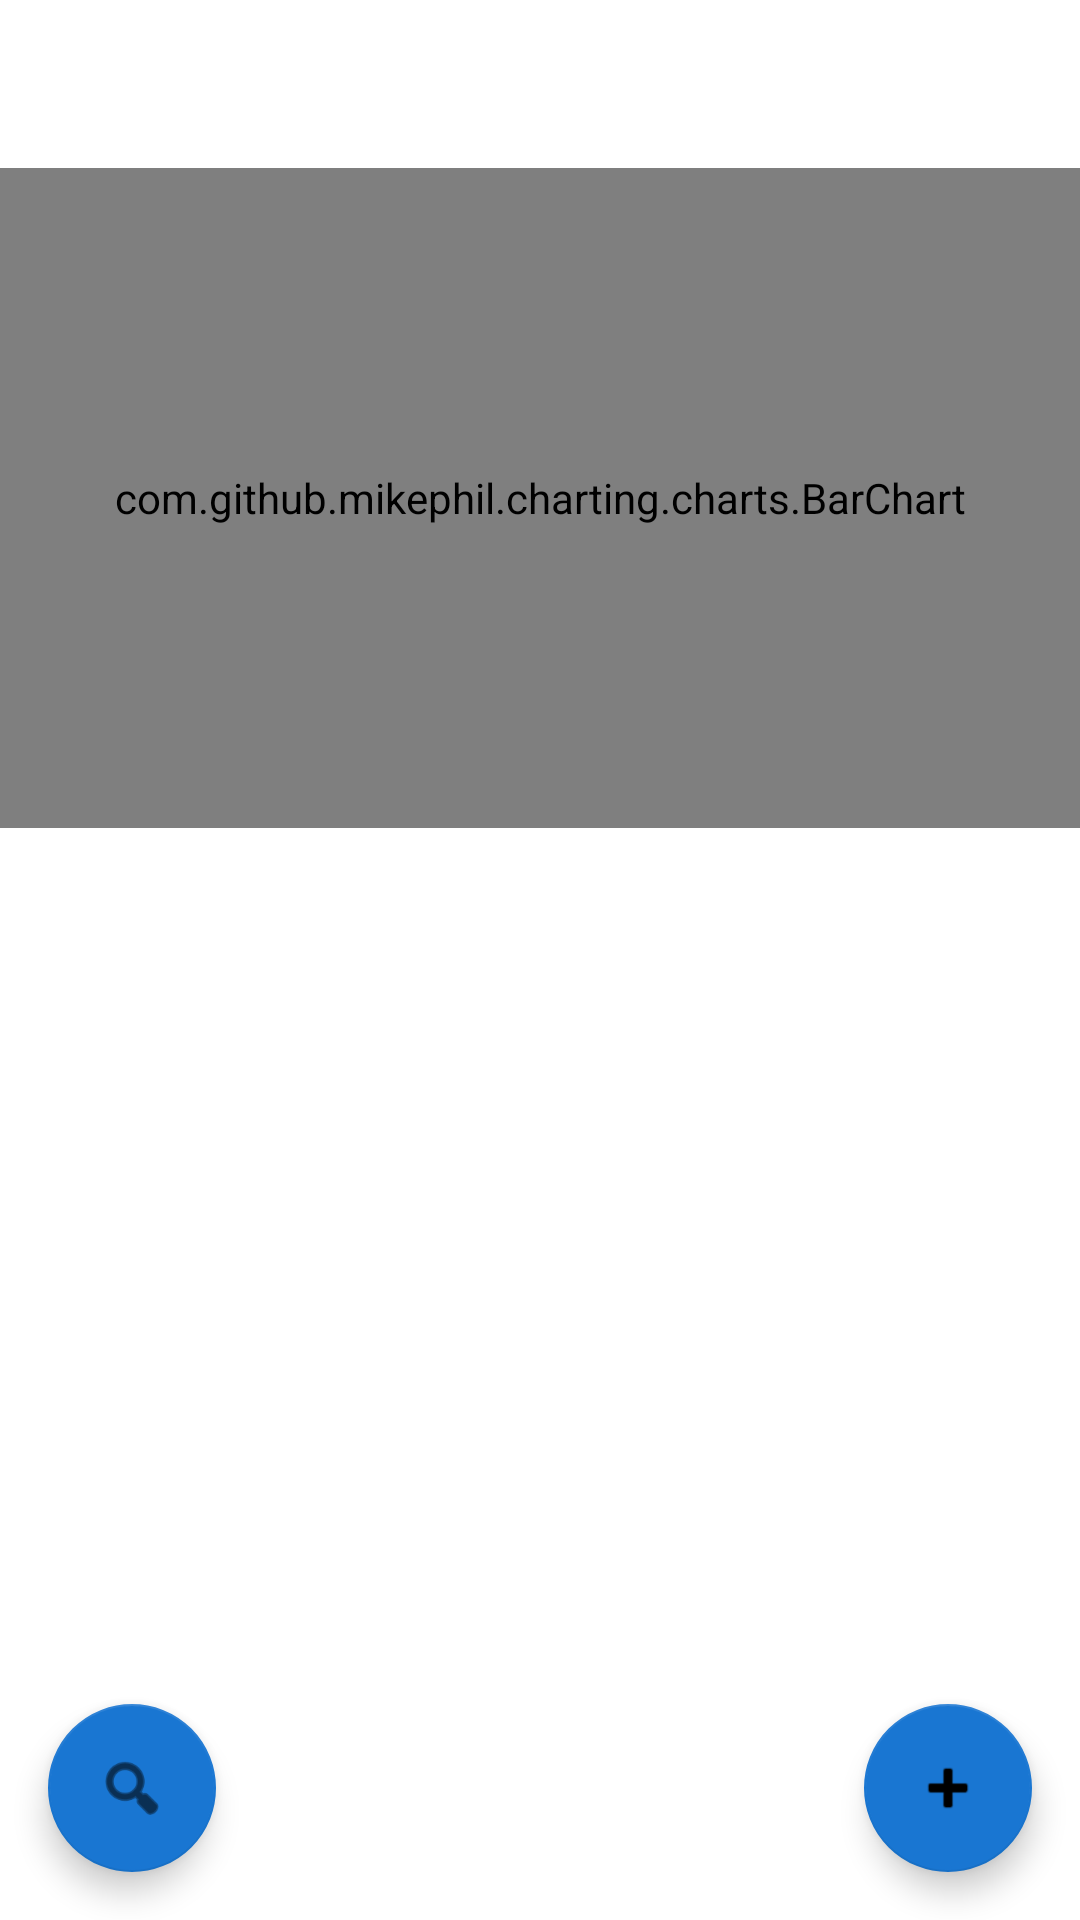

Icon bounding boxes for this 1080x1920 phone screenshot, format (x1, y1, x2, y2):
add: (864, 1704, 1032, 1872)
search: (48, 1704, 216, 1872)
